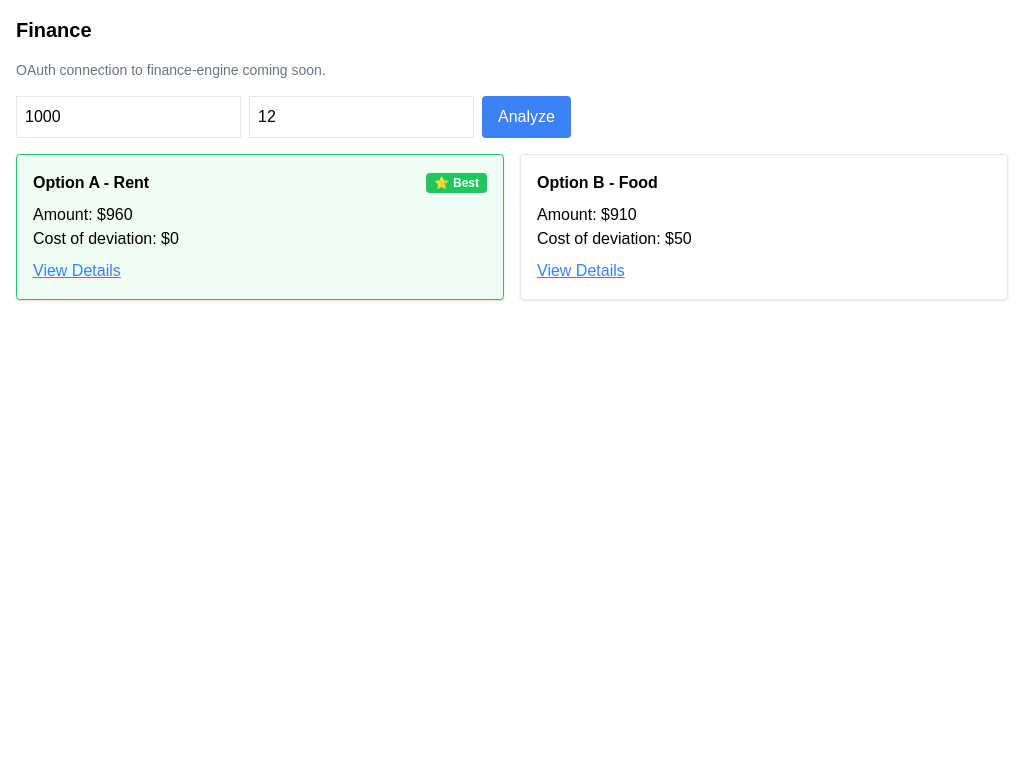
Test: FinancePage › labels options, highlights best choice, and shows modal content
The width and height of the screenshot is (1024, 768).
Expected: the element with class "shadow" shows "Option A - Rent", [16,154,504,300]
Expected: the element with class "shadow" shows "Option B - Food", [520,154,1008,300]
Click the button "View Details" below "960".
click(77, 271)  # box [33,259,121,283]
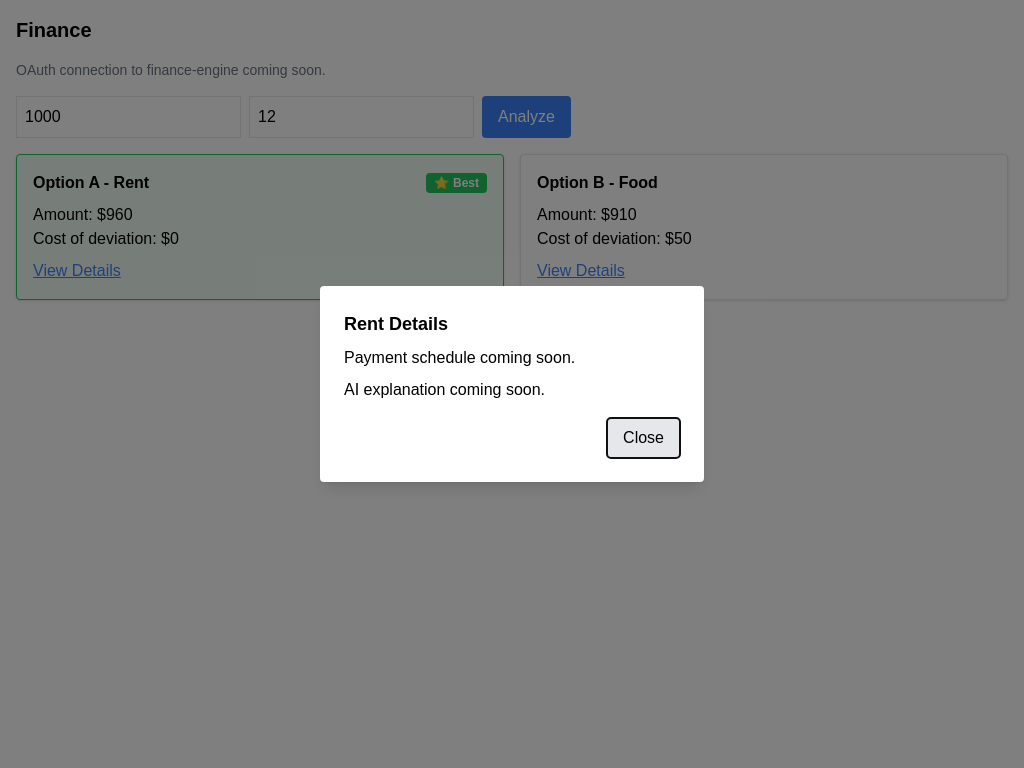
Result: the text "Payment schedule coming soon." is shown at [344,349,575,366]
Result: the text "AI explanation coming soon." is shown at [344,381,545,398]
